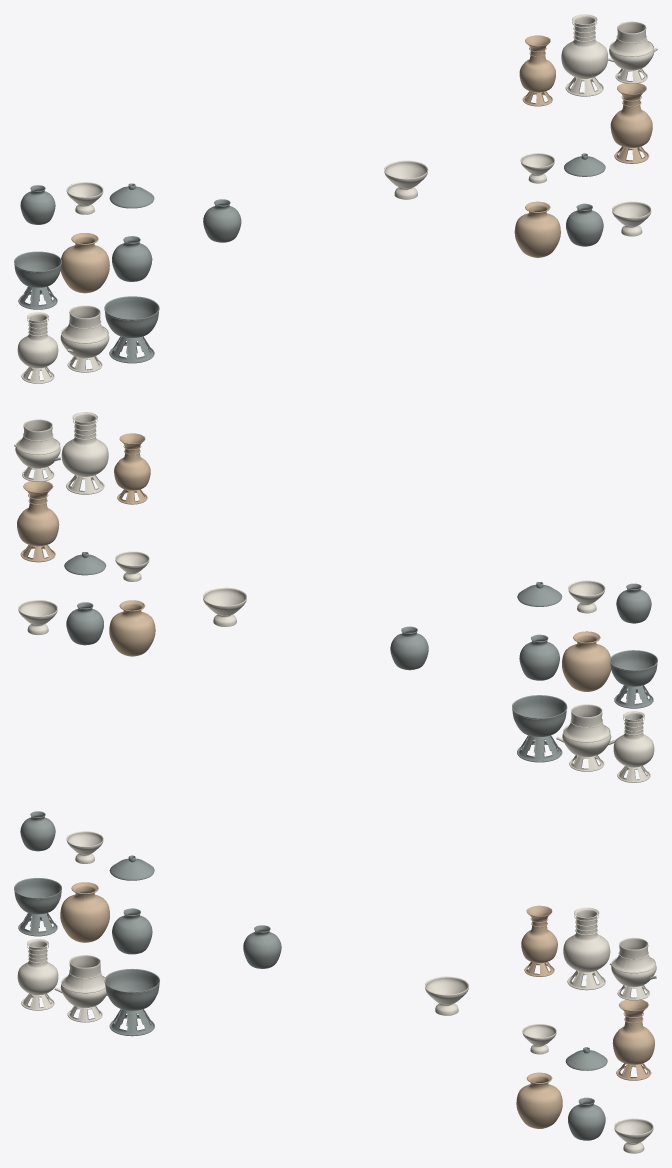
Rendered from studio-collection-v2.glb.
The picture shows the model from 3 angles, top to bottom: view 1: azimuth 30°, elevation 25°; view 2: azimuth 150°, elevation 25°; view 3: azimuth 330°, elevation 25°; orthographic projection.
Parts seen in each view (by area): view 1: Hand thrown body with inner wall (×18), Lid (×2), Openwork pedestal with wall thickness (×2); view 2: Hand thrown body with inner wall (×18), Lid (×2), Openwork pedestal with wall thickness (×2); view 3: Hand thrown body with inner wall (×18), Lid (×2), Openwork pedestal with wall thickness (×2).
Part boxes in pixels (box(x1,y1,x2,y2)): Hand thrown body with inner wall (×18): box(14, 14, 654, 368); Lid (×2): box(109, 156, 605, 208); Openwork pedestal with wall thickness (×2): box(19, 286, 152, 361); Hand thrown body with inner wall (×18): box(15, 412, 657, 767); Lid (×2): box(64, 554, 562, 606); Openwork pedestal with wall thickness (×2): box(518, 685, 652, 760); Hand thrown body with inner wall (×18): box(14, 811, 656, 1153); Lid (×2): box(109, 858, 607, 1070); Openwork pedestal with wall thickness (×2): box(19, 913, 153, 1034).
Size of the model in its own units: 6.39 by 2.14 by 0.7706.
